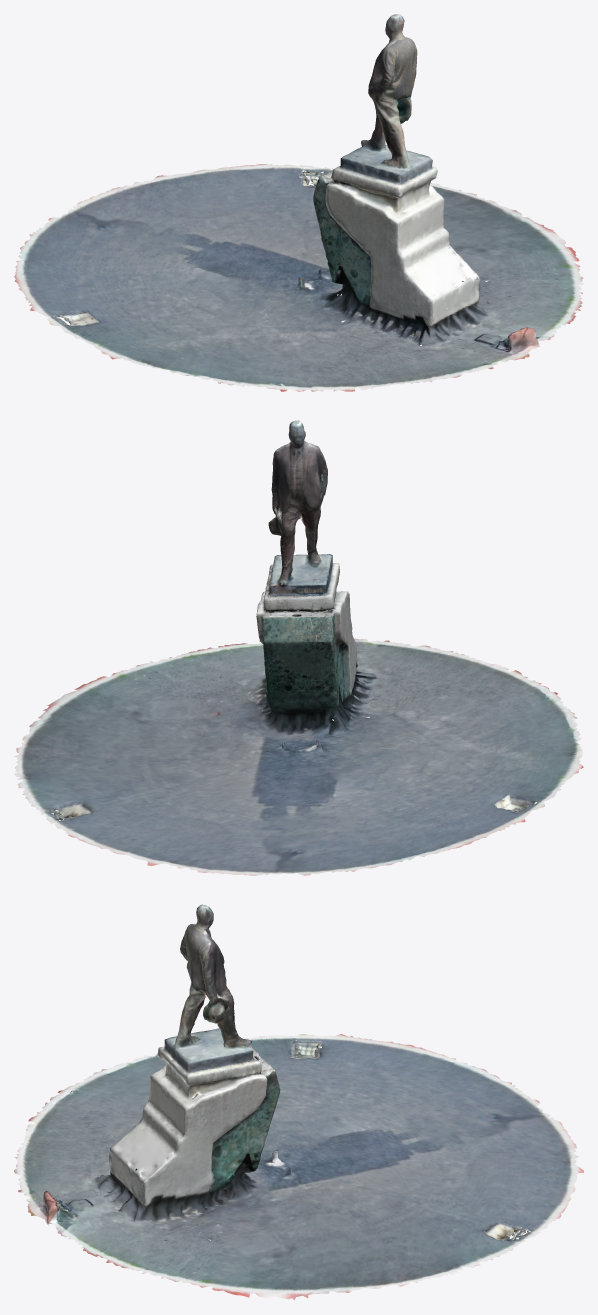
Rendered from lazaro_cardenas_v3.glb.
3 renders of one model, top to bottom at view 1: azimuth 30°, elevation 25°; view 2: azimuth 150°, elevation 25°; view 3: azimuth 270°, elevation 25°, orthographic.
Visible parts, largest first — view 1: odm_textured_model_geo; view 2: odm_textured_model_geo; view 3: odm_textured_model_geo.
Part boxes in pixels (x1,y1,x2,y2): odm_textured_model_geo: (14,14,583,391); odm_textured_model_geo: (14,420,583,875); odm_textured_model_geo: (14,904,583,1300).
Size of the model in its own units: 0.9176 by 0.5342 by 0.9112.
36 materials, 36 textured.
